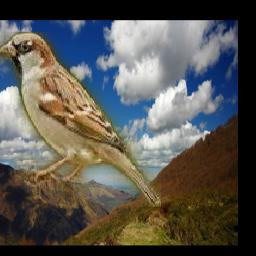Sparrow: (0, 33, 162, 208)
